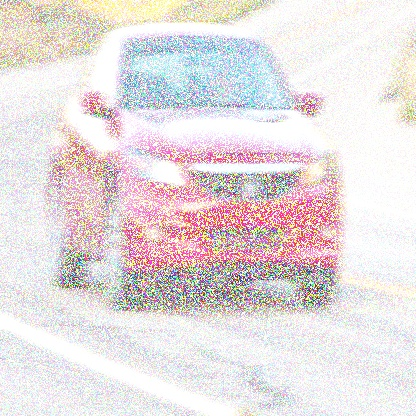Vehicle: (52, 23, 344, 312)
